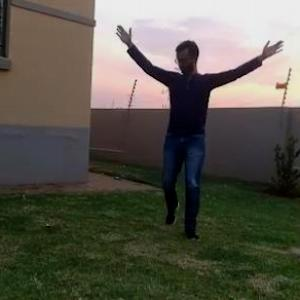takeoff: (113, 11, 294, 242)
